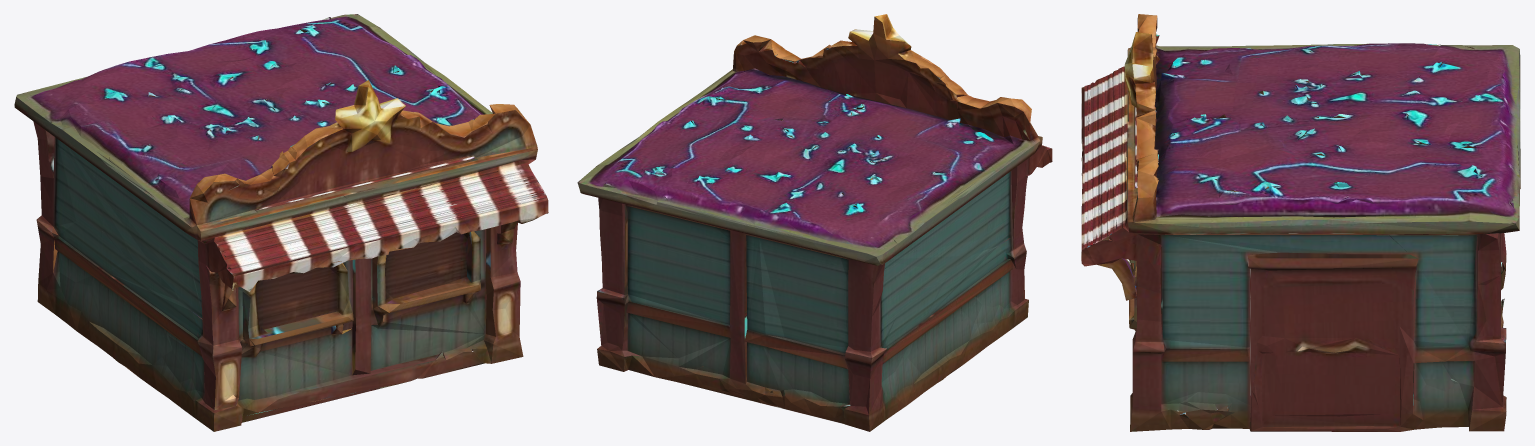
Rendered from park_ticketbooth_1117.glb.
3 renders of one model, left to right at view 1: azimuth 30°, elevation 25°; view 2: azimuth 150°, elevation 25°; view 3: azimuth 270°, elevation 25°, orthographic. The views are drawn at different scales.
Parts seen in each view (by area): view 1: world; view 2: world; view 3: world.
Boxes of the visible parts, x1,y1,x2,y2 form: world: (14,14,548,431); world: (577,14,1052,431); world: (1081,14,1520,431).
Bounding box in the file's own units: 1.18 × 1 × 1.23.
Materials: 1 (1 with a texture image).
